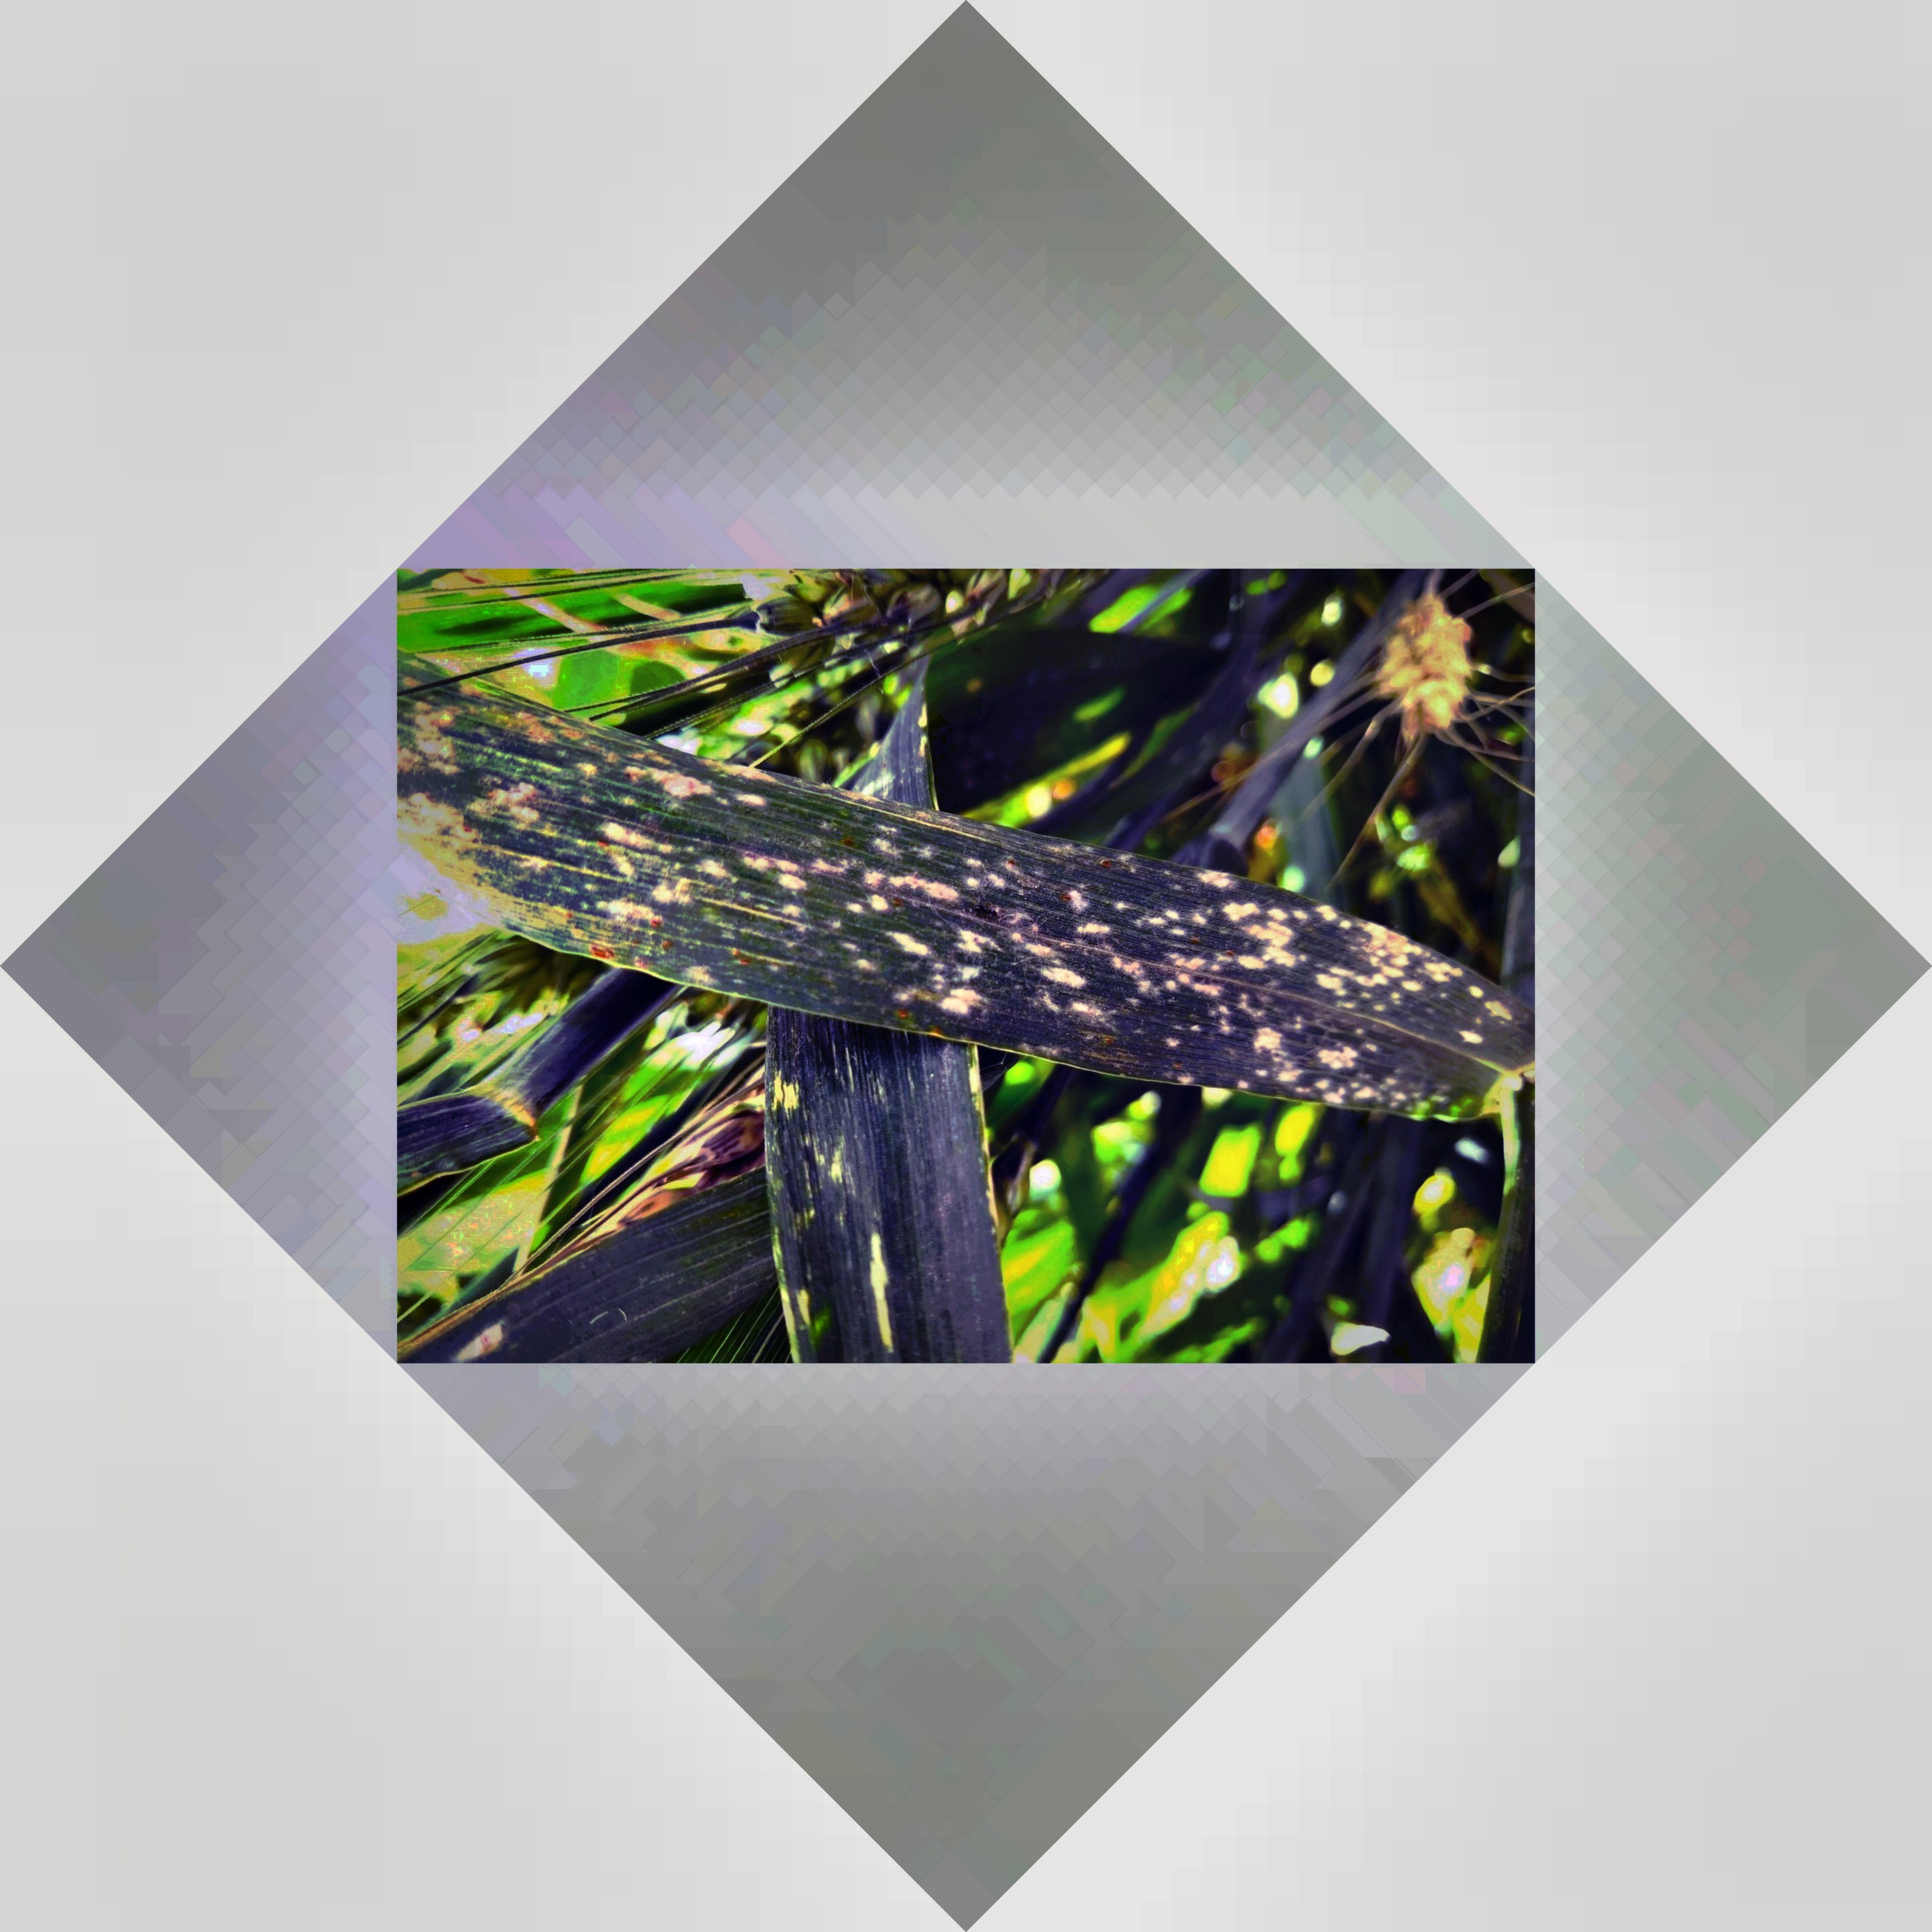Powdery Mildew: (617, 761, 1433, 1113)
